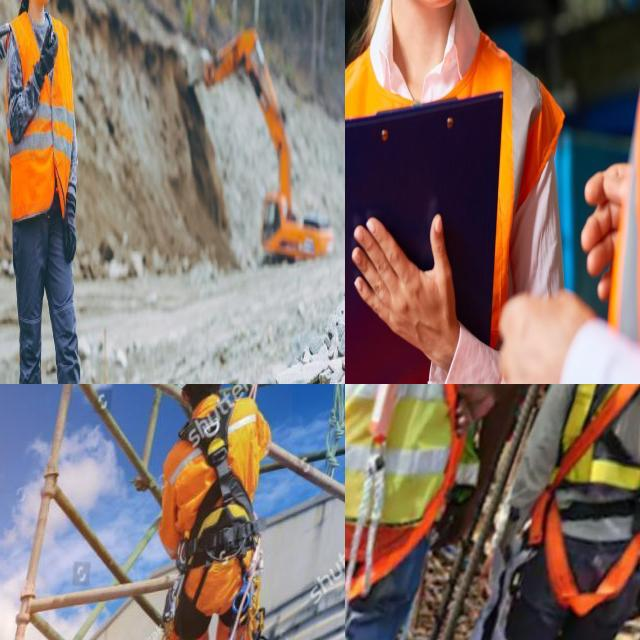Harness: (529, 384, 640, 618), (179, 399, 259, 570)
hand_glove: (31, 34, 64, 84), (59, 198, 81, 262), (0, 27, 10, 61)
hand_noglove: (345, 195, 475, 364), (579, 149, 640, 296)
person: (345, 0, 542, 384), (549, 0, 640, 373), (6, 0, 89, 384)
vest: (345, 11, 551, 375), (8, 12, 78, 220)
